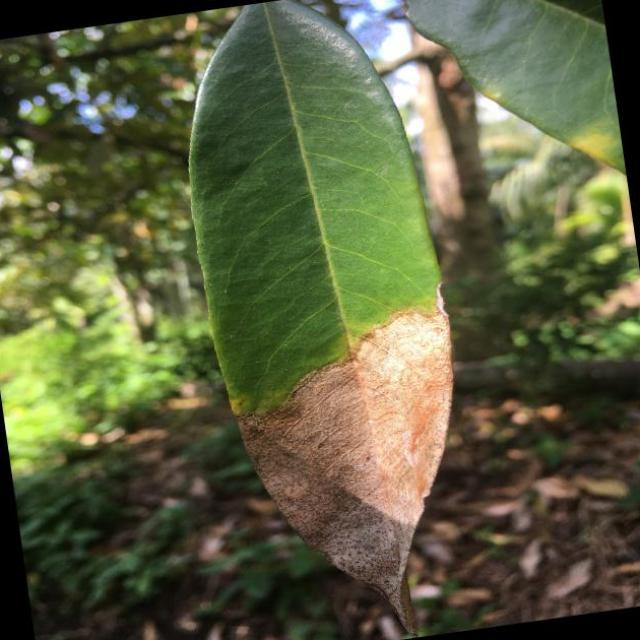Leaf Blight: (155, 0, 502, 640)
